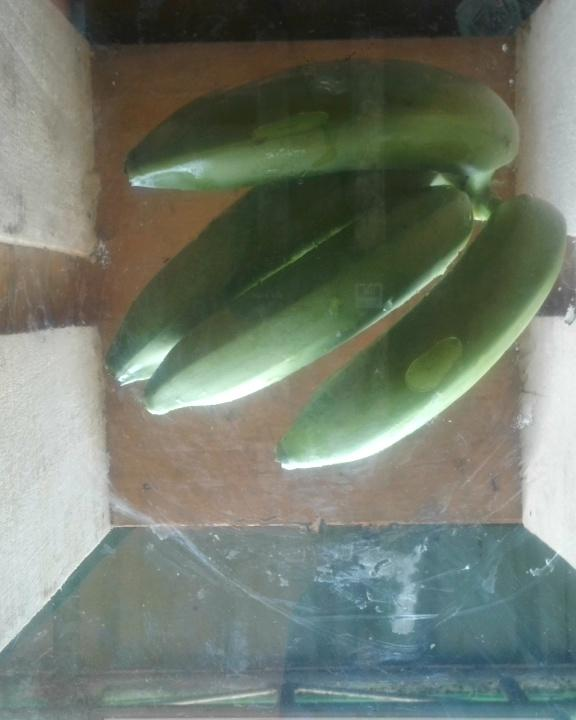SPOT: (102, 58, 576, 483)
